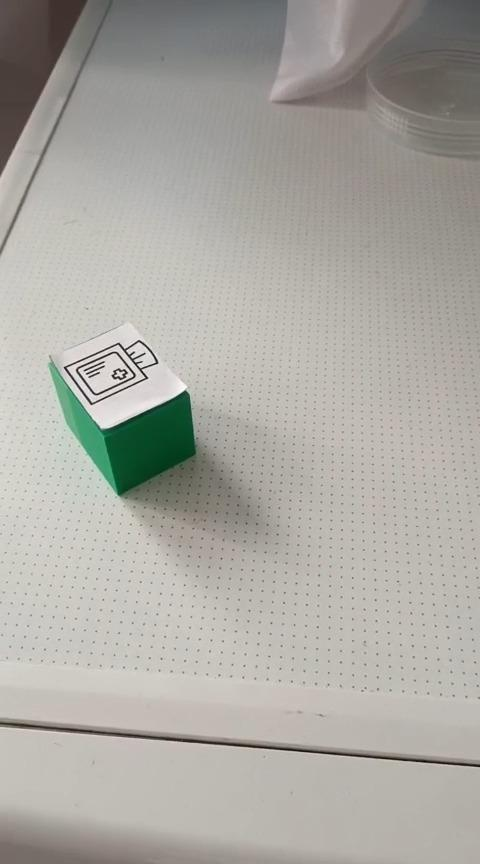Gauze: (47, 320, 196, 496)
